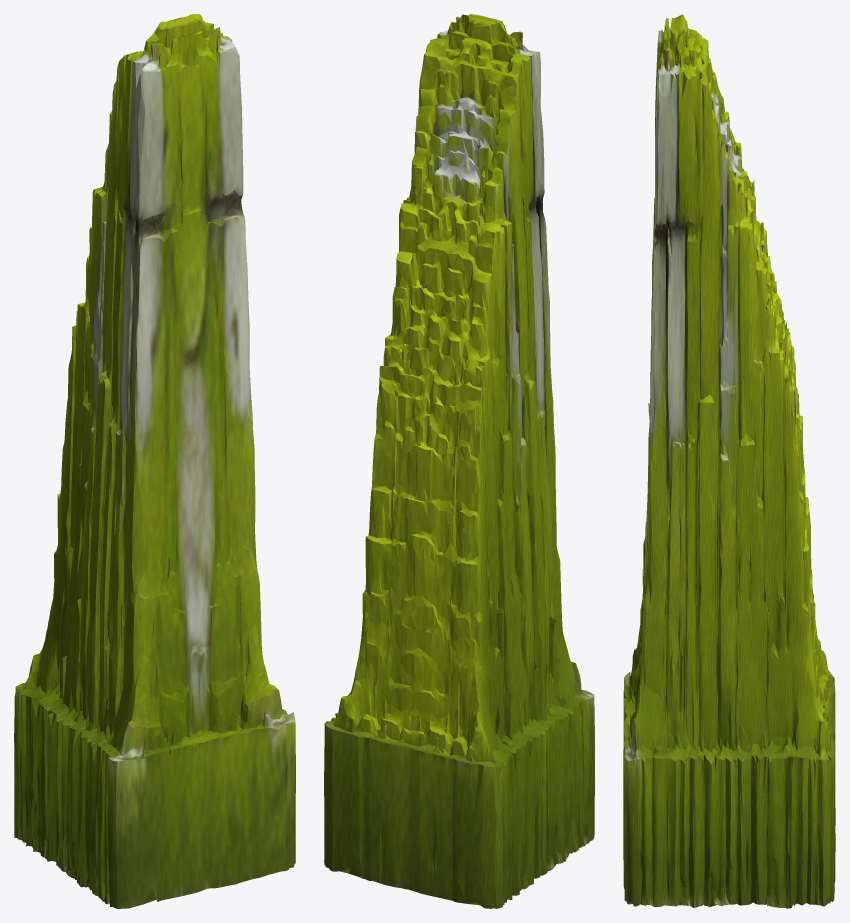
Rendered from broken_obelisk.glb.
3 views of the same model, side by side, from view 1: azimuth 30°, elevation 25°; view 2: azimuth 150°, elevation 25°; view 3: azimuth 270°, elevation 25° (orthographic). The views are drawn at different scales.
Parts seen in each view (by area): view 1: broken_obelisk; view 2: broken_obelisk; view 3: broken_obelisk.
Boxes of the visible parts, left/top/right/bottom form: broken_obelisk: left=14, top=14, right=295, bottom=908; broken_obelisk: left=324, top=14, right=594, bottom=908; broken_obelisk: left=623, top=14, right=835, bottom=908.
Bounding box in the file's own units: 0.8 × 3.5 × 0.8.
1 material, 1 textured.
